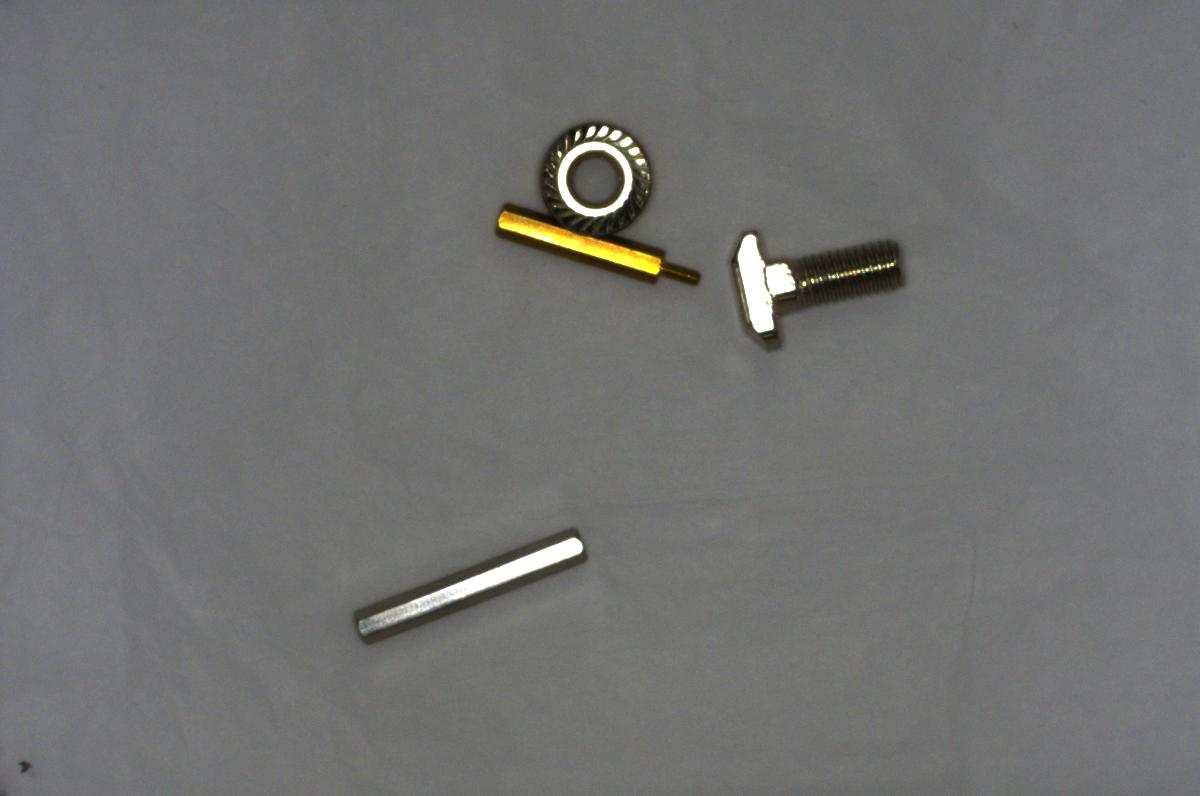Double hexagonal column: (342, 518, 598, 648)
Flange nut: (530, 115, 655, 239)
Hexagon pillar: (479, 195, 701, 289)
T-shaped screw: (715, 222, 914, 356)
